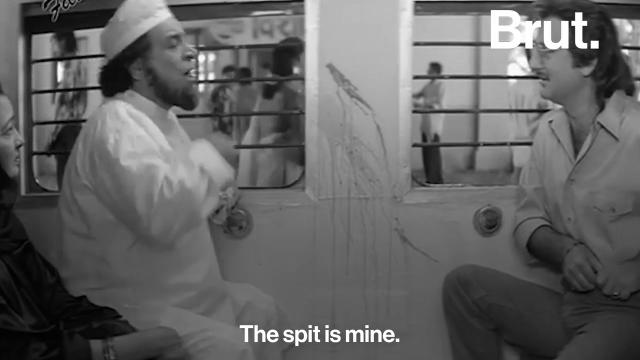spit: (283, 54, 463, 258)
